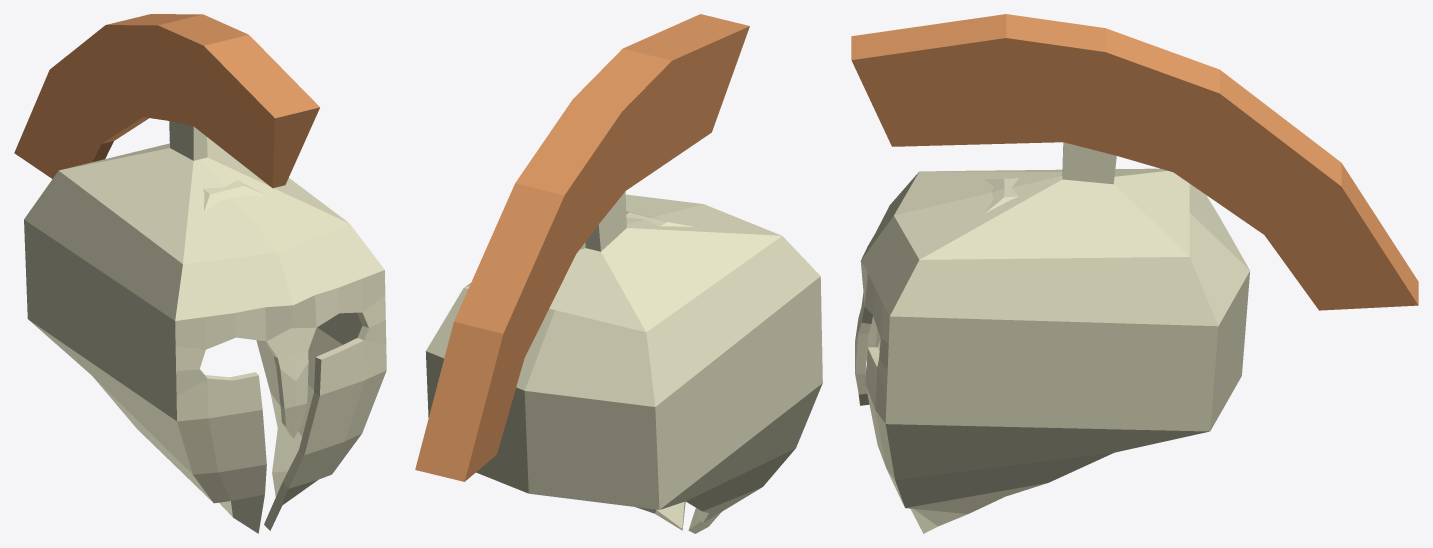
The model's file is HelmetLevel5.fbx.
3 views of the same model, side by side, from view 1: azimuth 30°, elevation 25°; view 2: azimuth 150°, elevation 25°; view 3: azimuth 270°, elevation 25° (orthographic). The views are drawn at different scales.
Parts seen in each view (by area): view 1: Soldier.010; view 2: Soldier.010; view 3: Soldier.010.
Boxes of the visible parts, left/top/right/bottom form: Soldier.010: left=14, top=14, right=386, bottom=533; Soldier.010: left=415, top=14, right=822, bottom=533; Soldier.010: left=851, top=14, right=1418, bottom=533.
Size of the model in its own units: 26.06 by 55.15 by 56.15.
